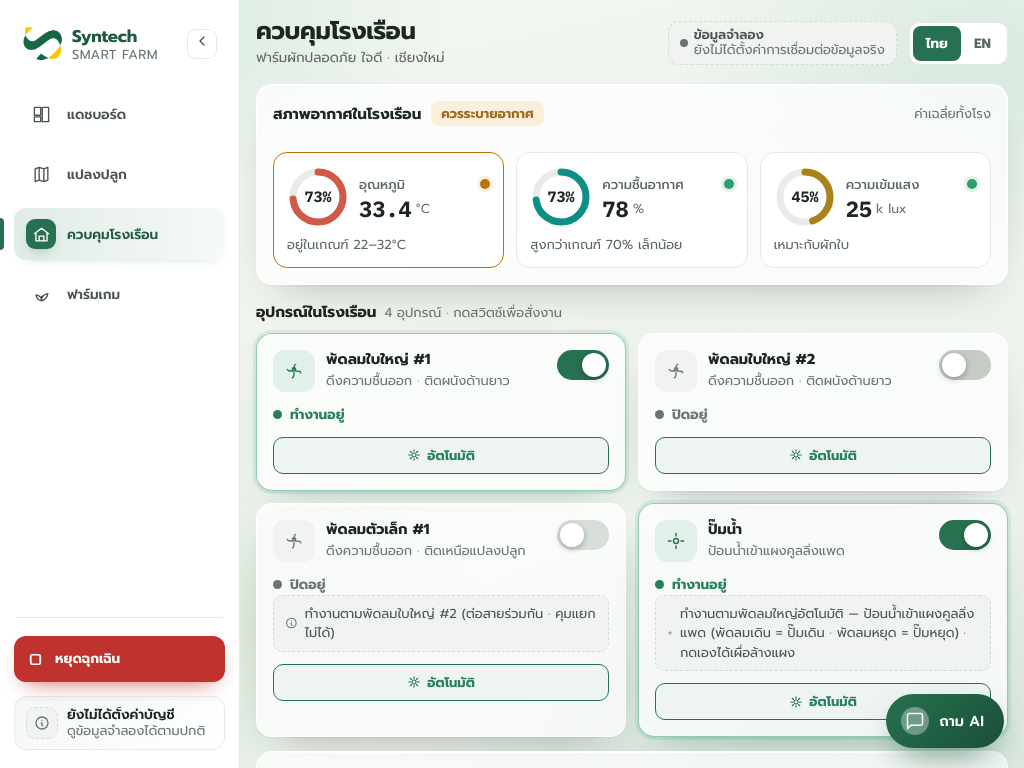
GreenhousePage › guard G2 · ปิดพัดลมใบใหญ่ตัวสุดท้ายตอนร้อน → โชว์กล่องคำเตือน (เลือกทำต่อ/ยกเลิกได้)
This screenshot has width=1024, height=768.
Click the switch named "พัดลมใบใหญ่ #1 — ทำงานอยู่".
click(583, 365)  # box top-left (557, 350), bottom-right (609, 380)
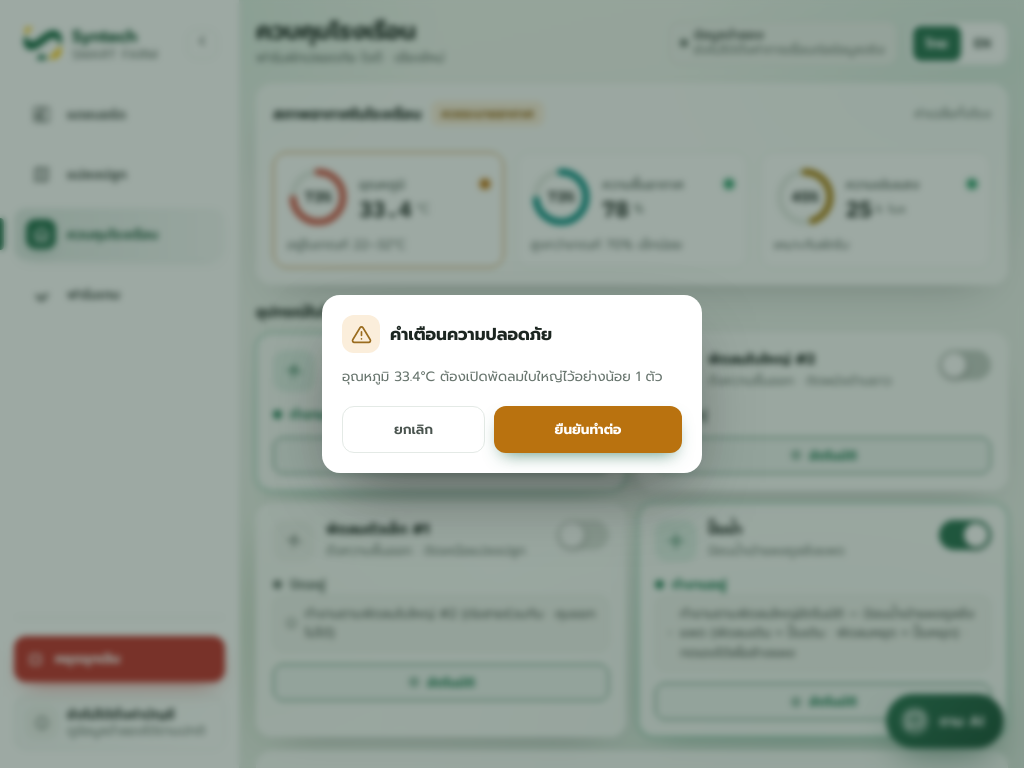
Expected: the heading "คำเตือนความปลอดภัย" is shown, top-left (390, 321), bottom-right (552, 347)
Expected: the button "ยืนยันทำต่อ" is shown, top-left (494, 406), bottom-right (682, 453)
